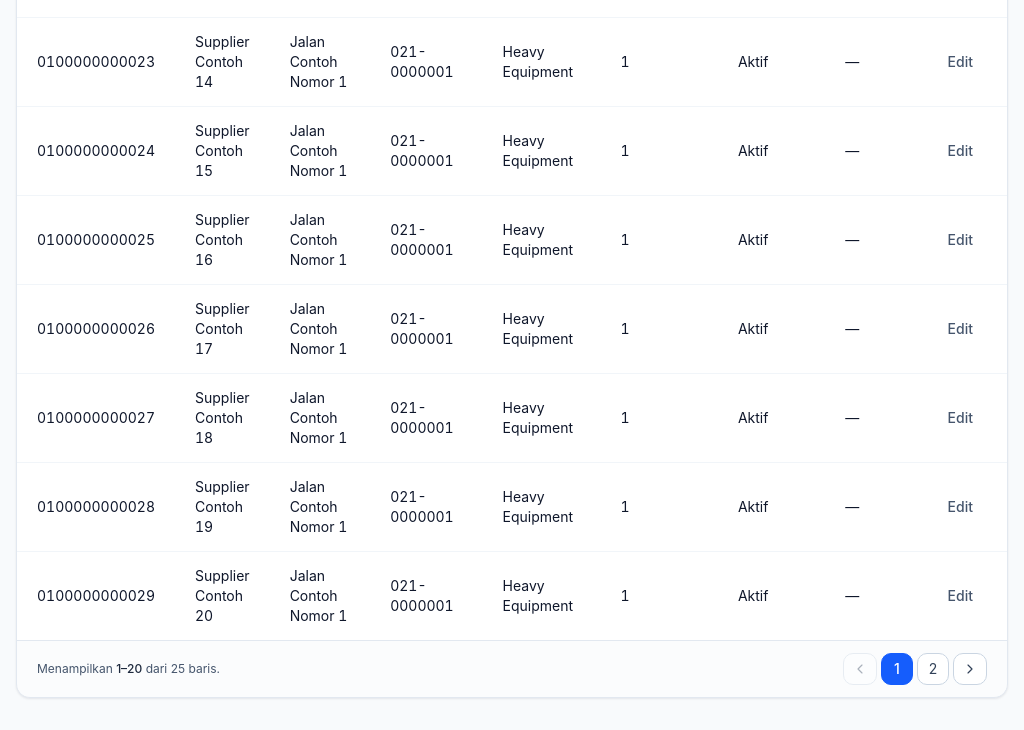
daftar master supplier › membuka baris halaman kedua
(page scrolled)
Click the button named "Halaman 2" at coordinates (933, 669), box [917,653,949,685]
(page scrolled)
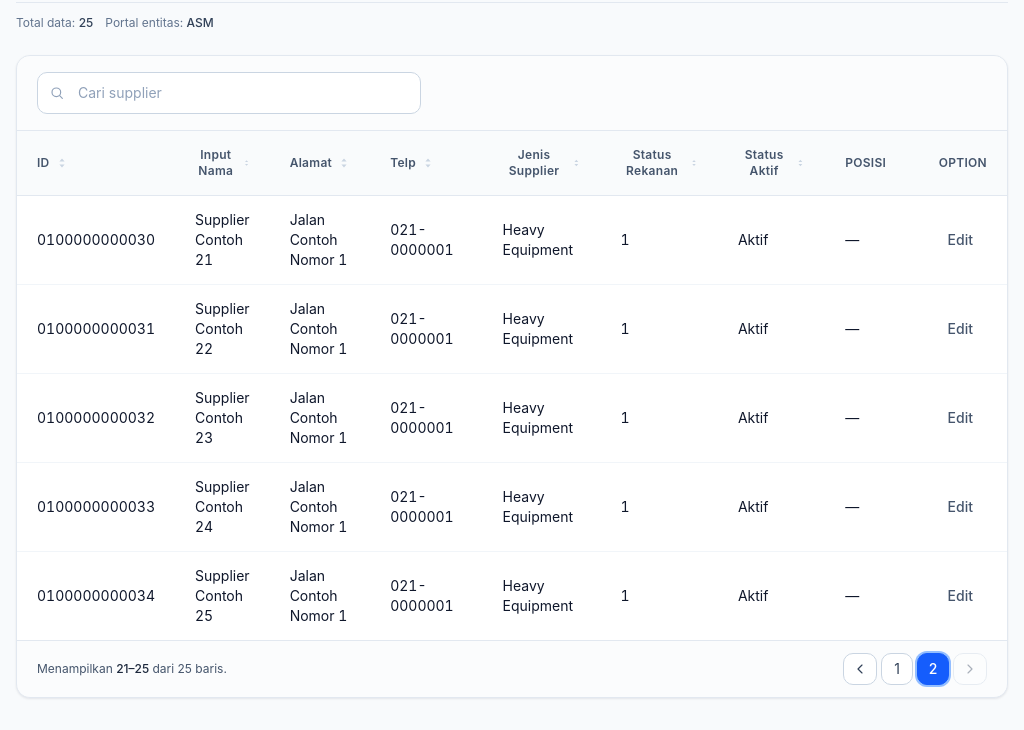
Now the text "Supplier Contoh 25" is shown, box [195,567,250,624]
